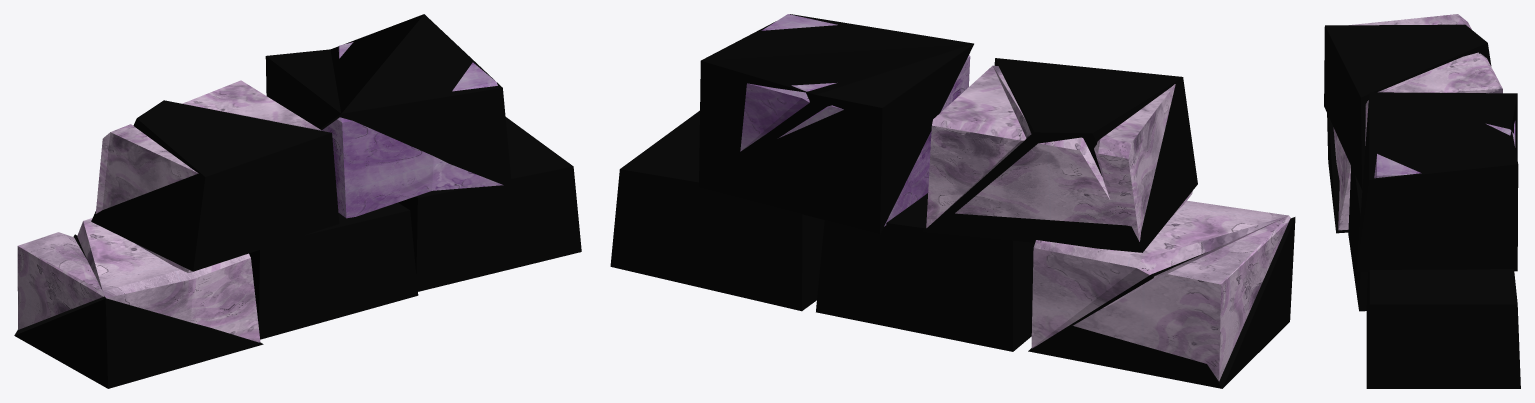
Rendered from s0_Str_Ruins_05__1__01.glb.
The picture shows the model from 3 angles, left to right: view 1: azimuth 30°, elevation 25°; view 2: azimuth 150°, elevation 25°; view 3: azimuth 270°, elevation 25°; orthographic projection. The views are drawn at different scales.
Visible parts, largest first — view 1: node_Str_Ruins_05 (1); view 2: node_Str_Ruins_05 (1); view 3: node_Str_Ruins_05 (1).
Part boxes in pixels (<box>): node_Str_Ruins_05 (1): <box>14,14,581,388</box>; node_Str_Ruins_05 (1): <box>610,14,1295,388</box>; node_Str_Ruins_05 (1): <box>1324,14,1520,388</box>.
Size of what is drawn, in the model's own units: 3.26 by 1.22 by 1.14.
3 materials, 2 textured.
